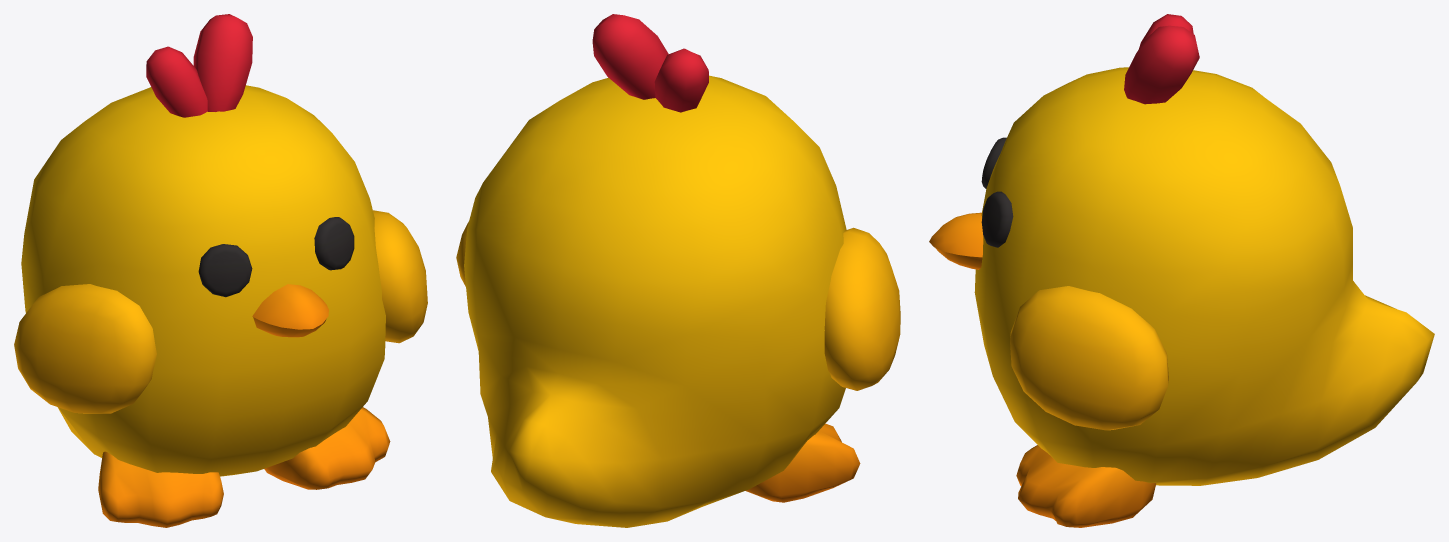
Rendered from Chick_01.fbx.
The picture shows the model from 3 angles, left to right: view 1: azimuth 30°, elevation 25°; view 2: azimuth 150°, elevation 25°; view 3: azimuth 270°, elevation 25°; orthographic projection. The views are drawn at different scales.
Parts seen in each view (by area): view 1: Chick_01; view 2: Chick_01; view 3: Chick_01.
Part boxes in pixels (x1,y1,x2,y2): Chick_01: (14, 14, 427, 527); Chick_01: (456, 14, 900, 527); Chick_01: (929, 14, 1434, 527).
Bounding box in the file's own units: 40.35 × 43.58 × 43.3.
